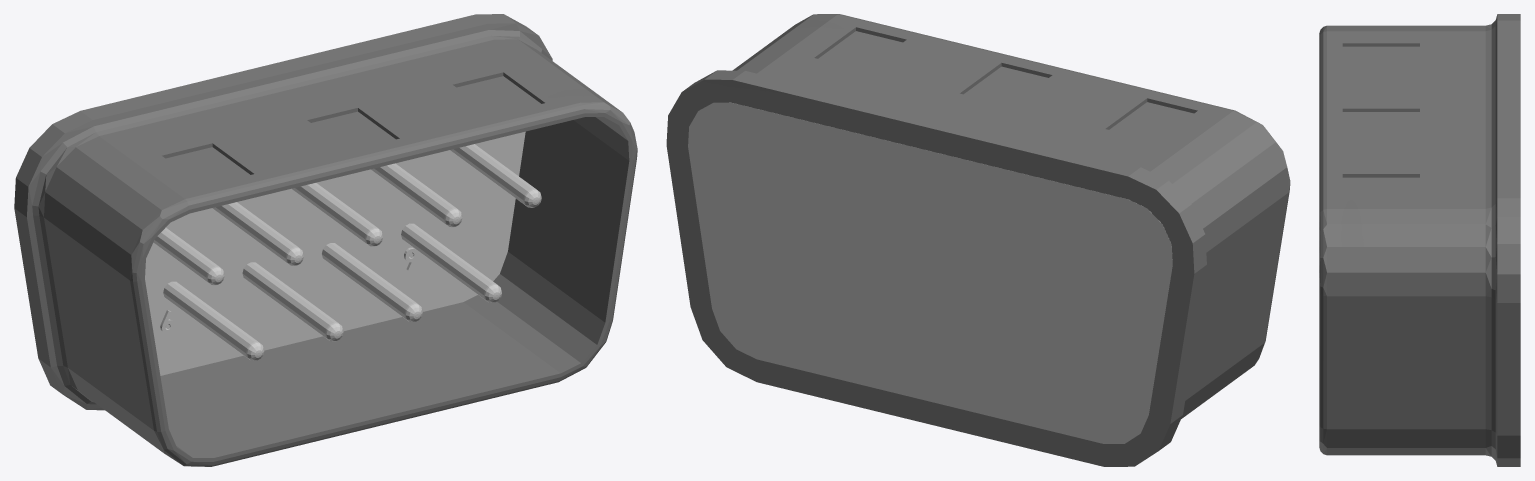
File: Serial.fbx
3 views of the same model, side by side, from view 1: azimuth 30°, elevation 25°; view 2: azimuth 150°, elevation 25°; view 3: azimuth 270°, elevation 25° (orthographic). The views are drawn at different scales.
Parts seen in each view (by area): view 1: shell, Backing, Pins; view 2: shell, Backing, Designator, Pins; view 3: shell.
Part boxes in pixels (left/top/right/bottom): shell: left=14, top=14, right=637, bottom=466; Backing: left=145, top=131, right=525, bottom=375; Pins: left=153, top=144, right=541, bottom=360; shell: left=666, top=14, right=1290, bottom=466; Backing: left=688, top=102, right=1172, bottom=443; Designator: left=736, top=140, right=1137, bottom=417; Pins: left=747, top=171, right=1111, bottom=382; shell: left=1319, top=14, right=1520, bottom=466.
Size of the model in its own units: 18.42 by 9.88 by 6.61.
